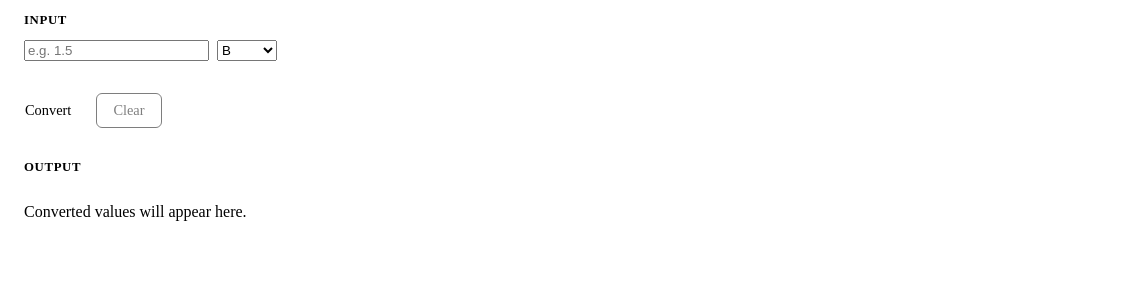
Test: ByteSizeConverterTool › shows an error for a negative value
The image size is (1145, 293).
Type "-1" into the field named "Byte value". click: (116, 50)
box: [24,40,209,61]
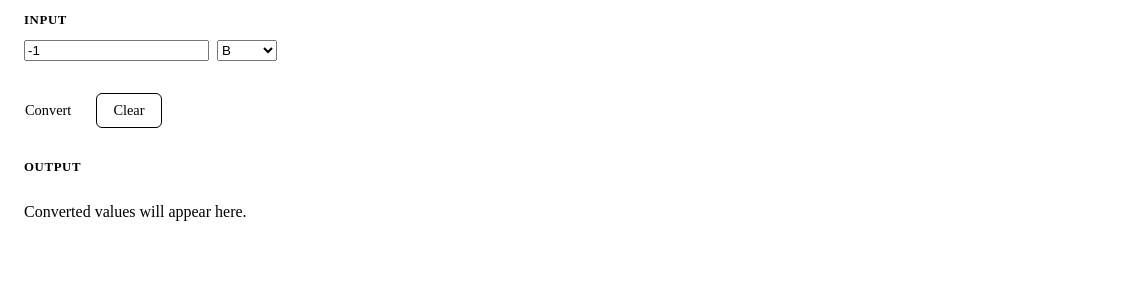
Click the button "Convert". click: (48, 110)
box: [8,93,88,128]
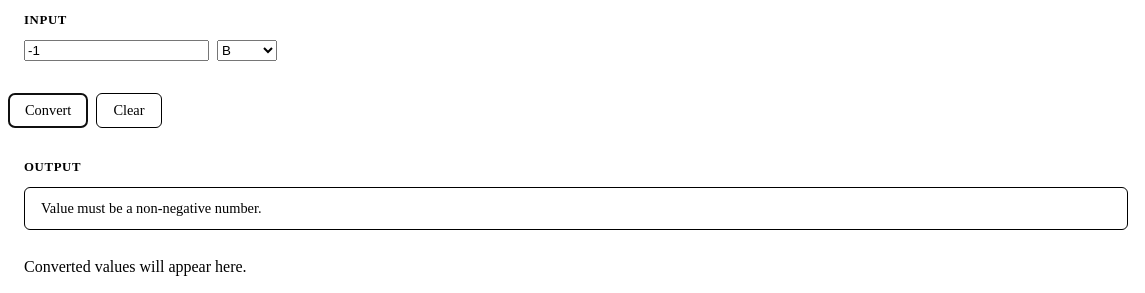
expect the message shows "non-negative": met, box [41,200,262,216]
